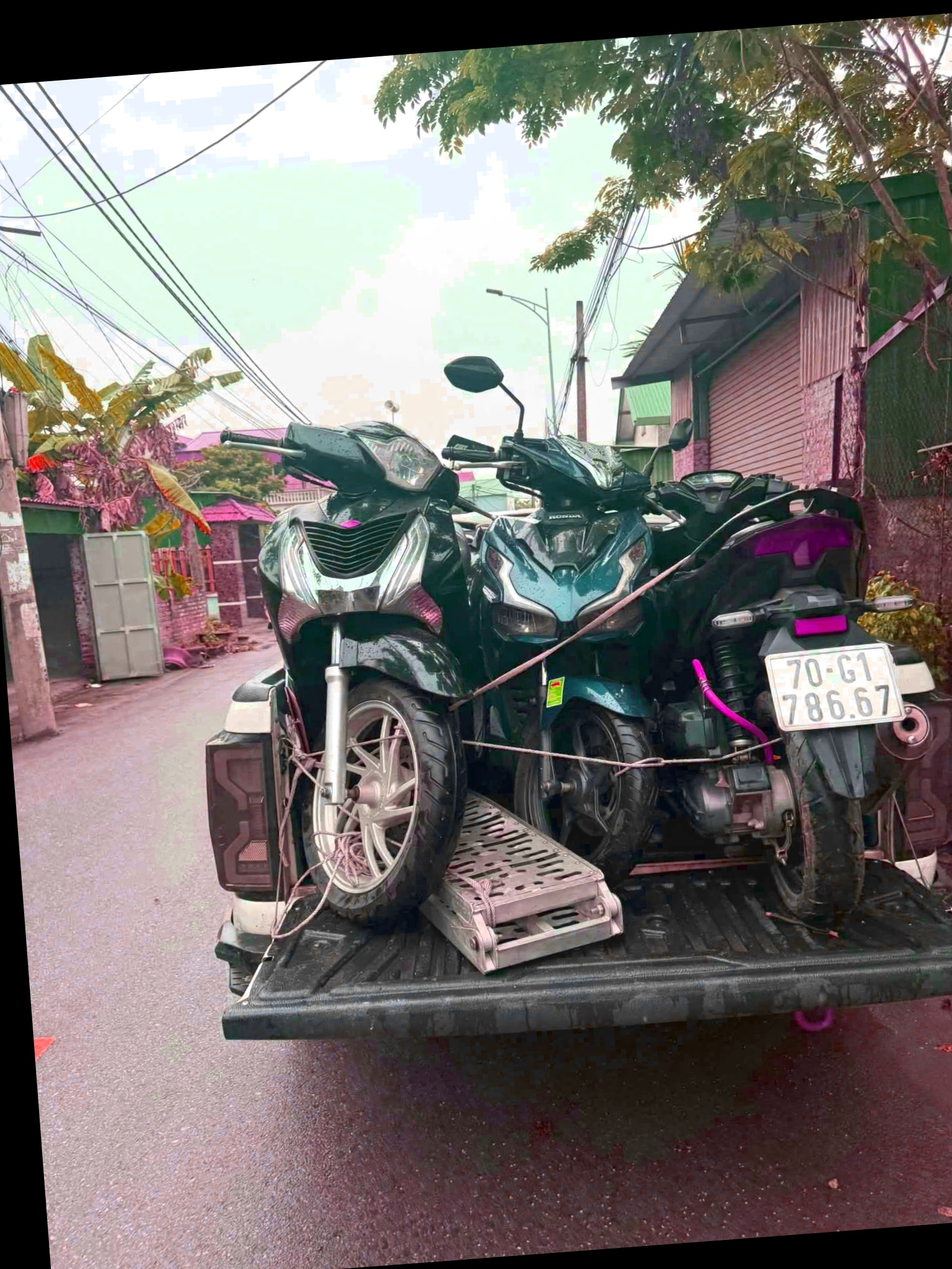Bien-so: (750, 650, 889, 748)
